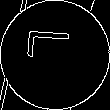L_E: (29, 38, 81, 72)
